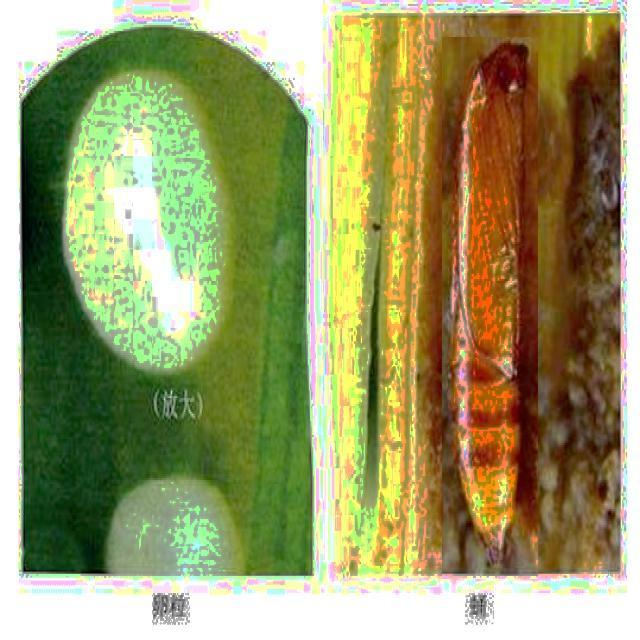whorl-maggot: (442, 37, 538, 579)
